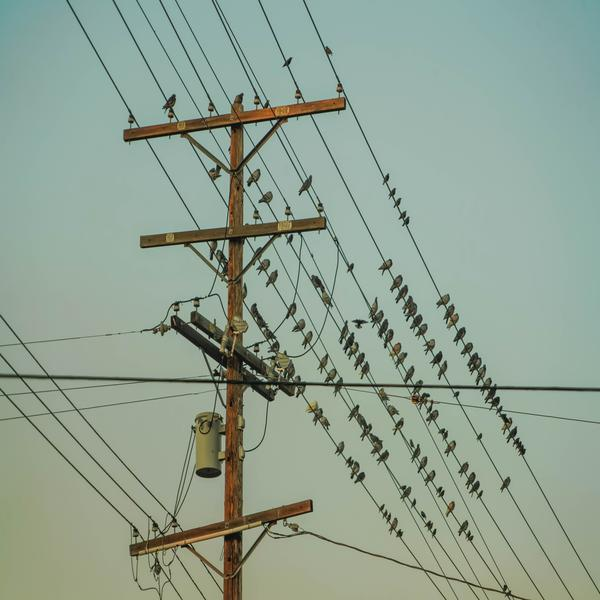utility_pole: (108, 68, 357, 591)
